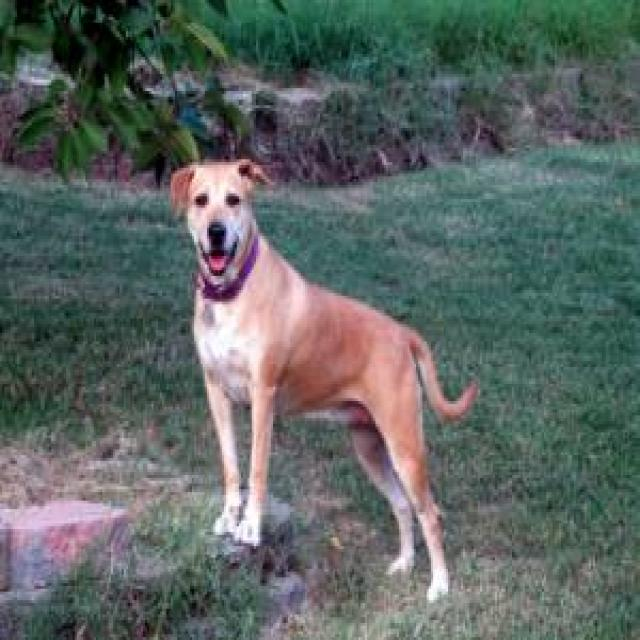dog-american_pit_bull_terrier: (162, 148, 482, 597)
